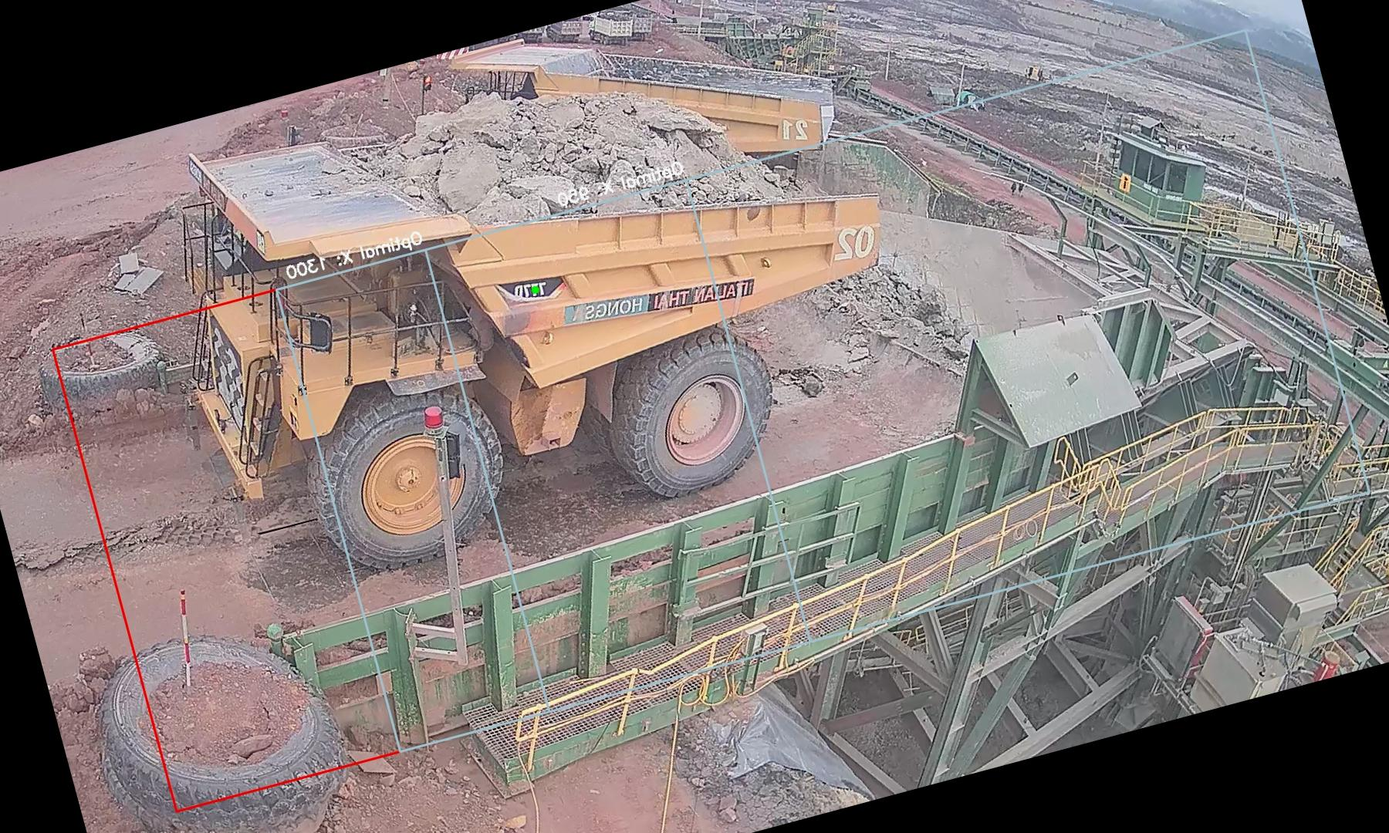company: (545, 254, 766, 345)
full_load: (373, 52, 690, 277)
mining_truck: (109, 0, 945, 617)
tail_number: (814, 209, 896, 285)
truck_size: (494, 261, 569, 311)
